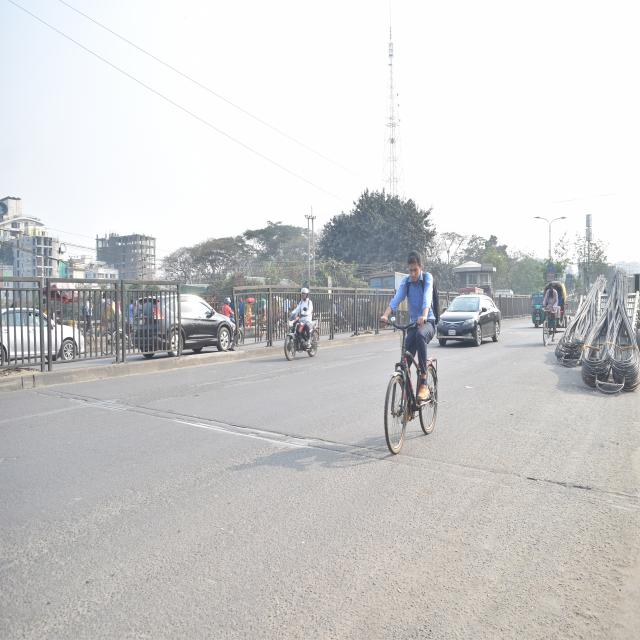car: (128, 289, 235, 360), (434, 287, 504, 359)
motorbike: (275, 304, 323, 363)
